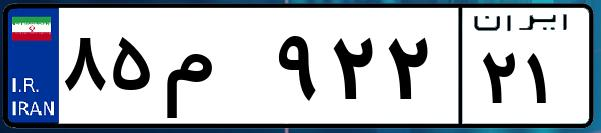1: (525, 38, 570, 115)
2: (385, 28, 445, 110), (330, 28, 385, 110), (475, 38, 525, 113)
5: (110, 28, 158, 98)
8: (57, 26, 110, 100)
9: (270, 28, 330, 110)
م: (158, 20, 270, 120)
